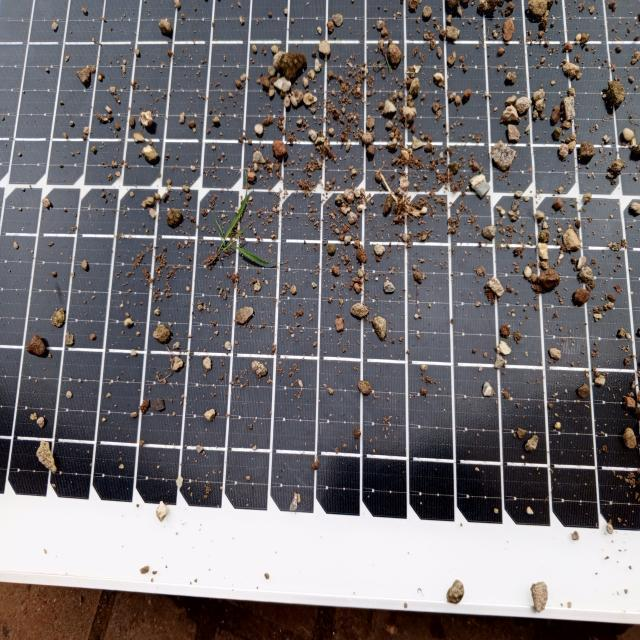Anomaly Solar Panel: (2, 0, 640, 552)
Surface Contaminant: (14, 21, 639, 556)
